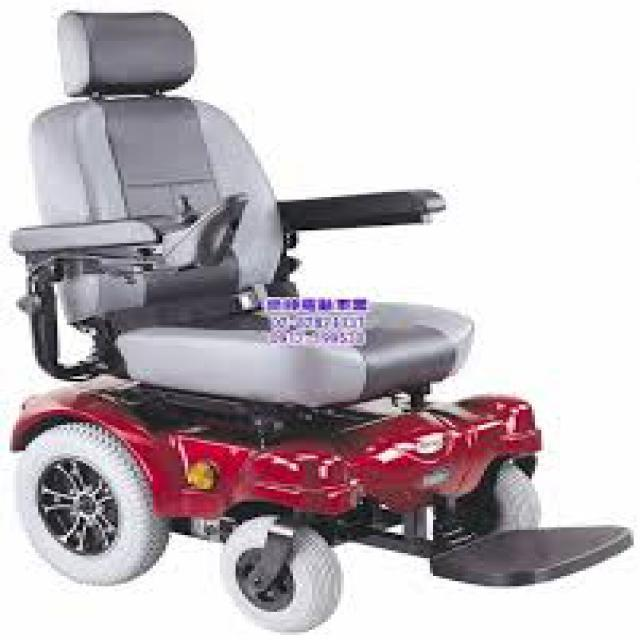wheelchair: (3, 5, 637, 625)
